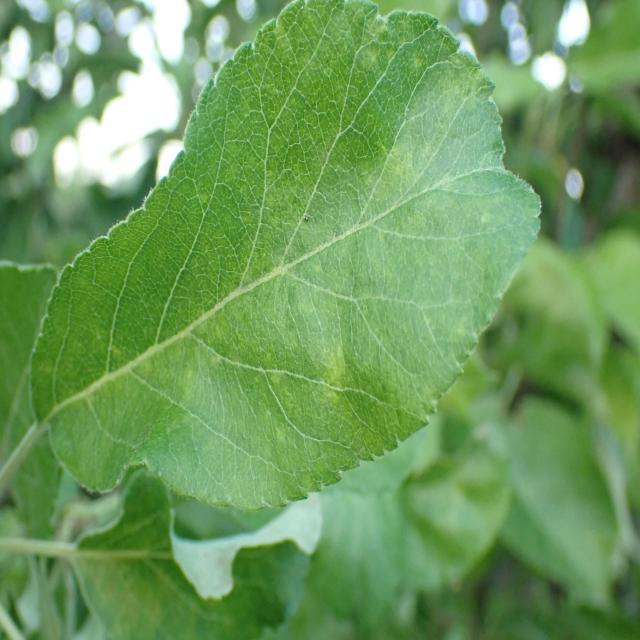scab: (85, 19, 481, 476)
